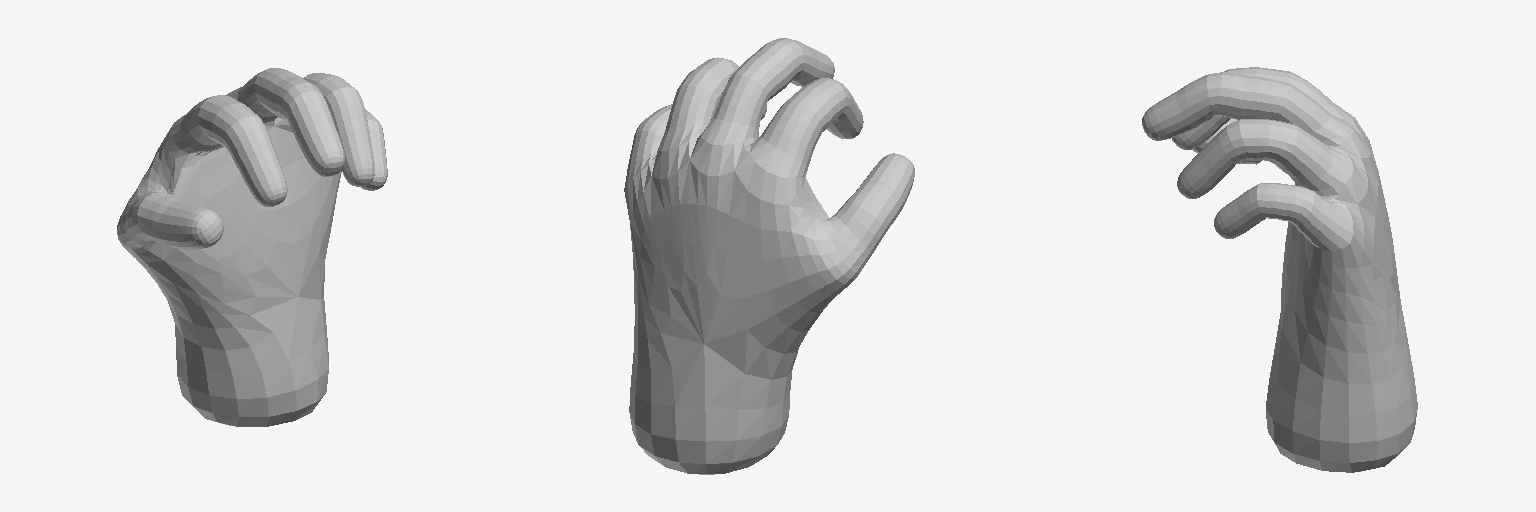
Rendered from handanimatsion40.obj.
The picture shows the model from 3 angles: view 1: azimuth 30°, elevation 25°; view 2: azimuth 150°, elevation 25°; view 3: azimuth 270°, elevation 25°; orthographic projection.
Parts seen in each view (by area): view 1: Cube; view 2: Cube; view 3: Cube.
Part boxes in pixels (x1,y1,x2,y2): Cube: (117,68,387,426); Cube: (624,38,914,474); Cube: (1142,67,1417,472).
Size of the model in its own units: 3.23 by 4.84 by 3.2.